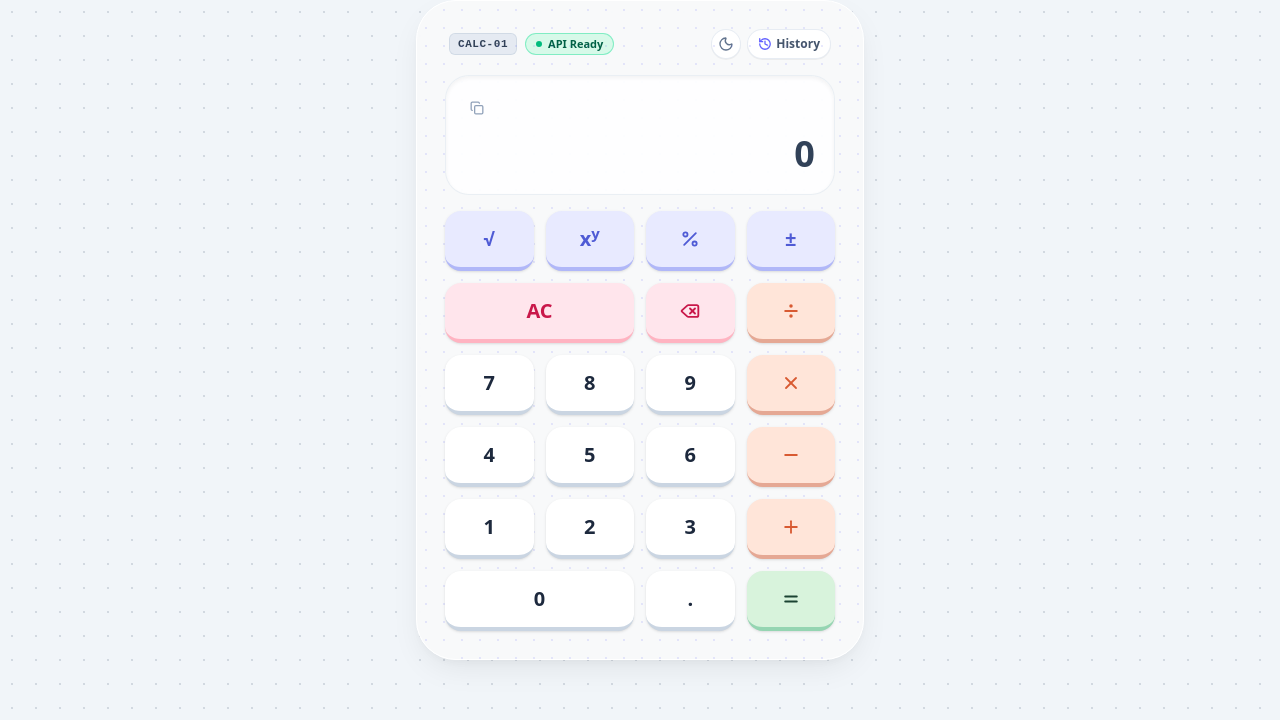
Test: Calculator Component Integration › Keyboard modifier guards & clipboard copy › copy button copies the display value and shows confirmation
The image size is (1280, 720).
Press 4
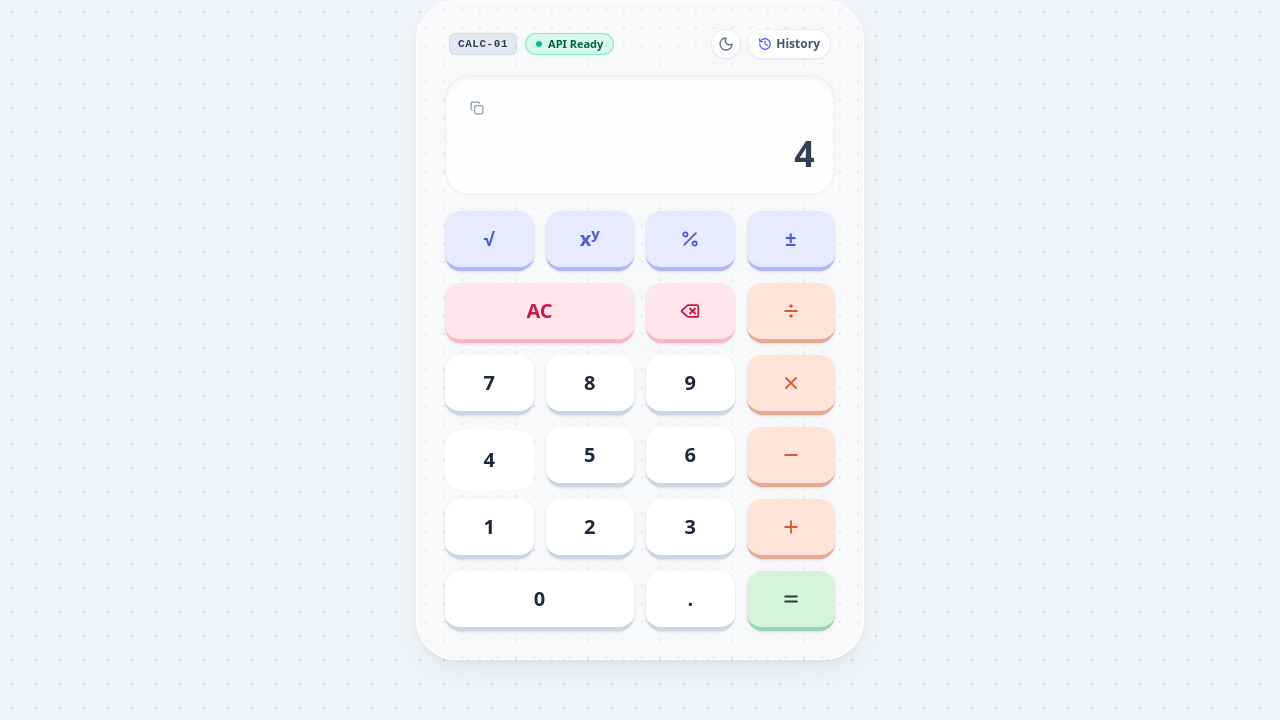
Press 2
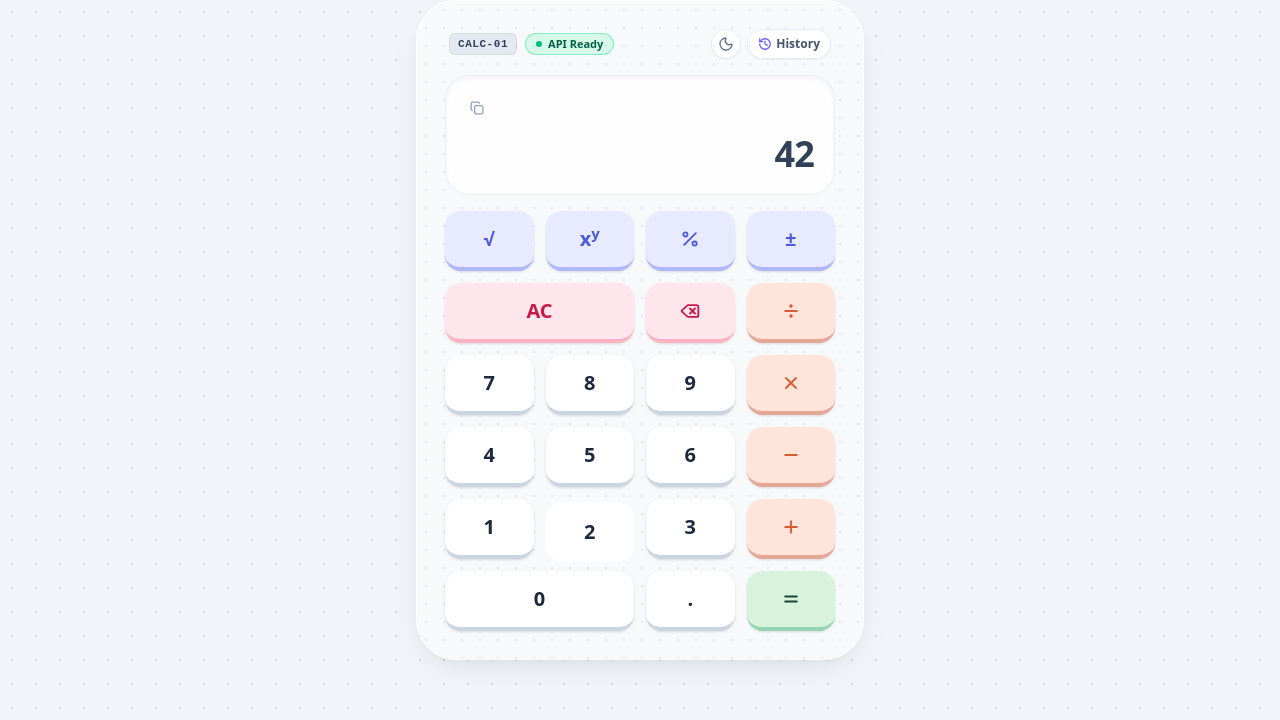
expect the text with test id "display-value" reads "42": met, box [775,129,814,178]
Click the button with test id "btn-copy" at (477, 108), box [466,97,488,119]
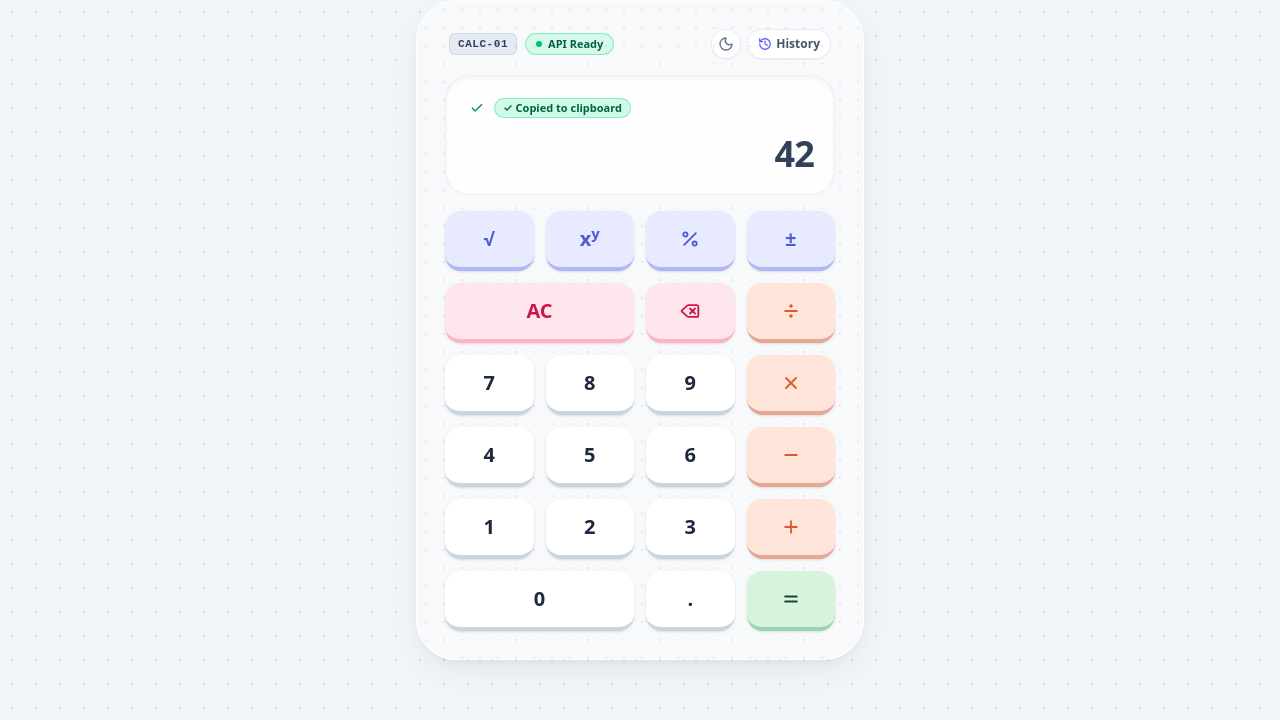
expect the text with test id "display-value" reads "42": met, box [775,129,814,178]
expect the text "✓ Copied to clipboard" is shown: met, box [494,98,631,118]
